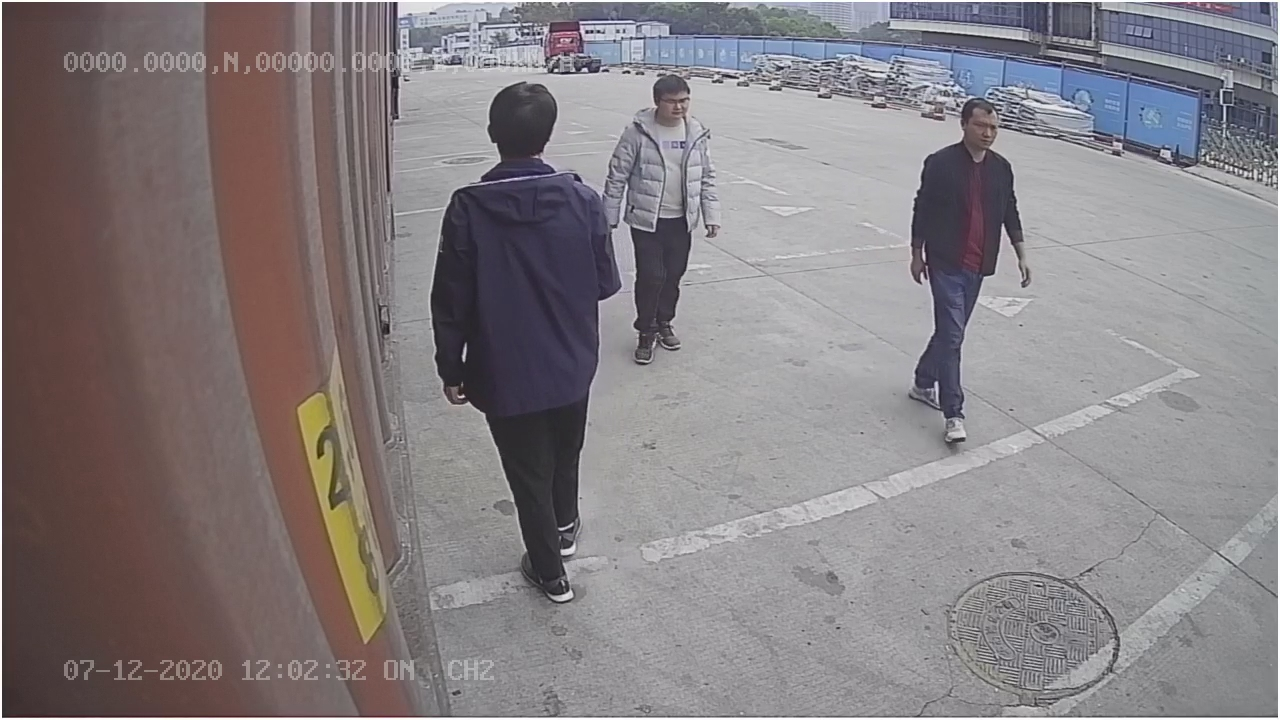person: (907, 89, 1034, 447)
